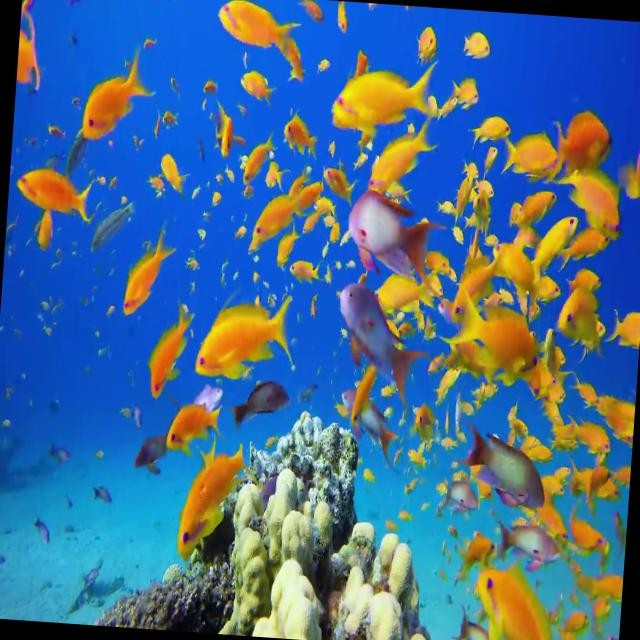fish: (333, 276, 432, 402), (193, 288, 289, 382), (175, 443, 251, 559), (330, 56, 436, 136), (344, 185, 431, 282), (332, 58, 439, 136), (464, 424, 548, 514), (451, 300, 547, 376), (472, 565, 559, 640), (81, 48, 146, 146), (449, 244, 508, 326), (213, 0, 297, 55), (17, 166, 92, 226), (550, 108, 616, 176), (248, 182, 312, 248), (556, 272, 610, 348), (123, 229, 169, 317), (144, 308, 188, 400), (534, 208, 579, 288), (228, 374, 292, 424), (166, 401, 222, 454), (504, 130, 564, 178), (509, 186, 558, 234), (278, 110, 318, 156), (455, 156, 482, 222), (242, 132, 275, 185), (469, 113, 512, 148), (322, 160, 356, 202), (469, 112, 510, 146), (239, 69, 278, 101), (412, 19, 438, 64), (459, 27, 492, 62), (452, 75, 482, 106)
